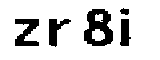8: (79, 4, 115, 48)
i: (119, 5, 135, 56)
r: (45, 16, 76, 51)
z: (10, 17, 41, 51)
